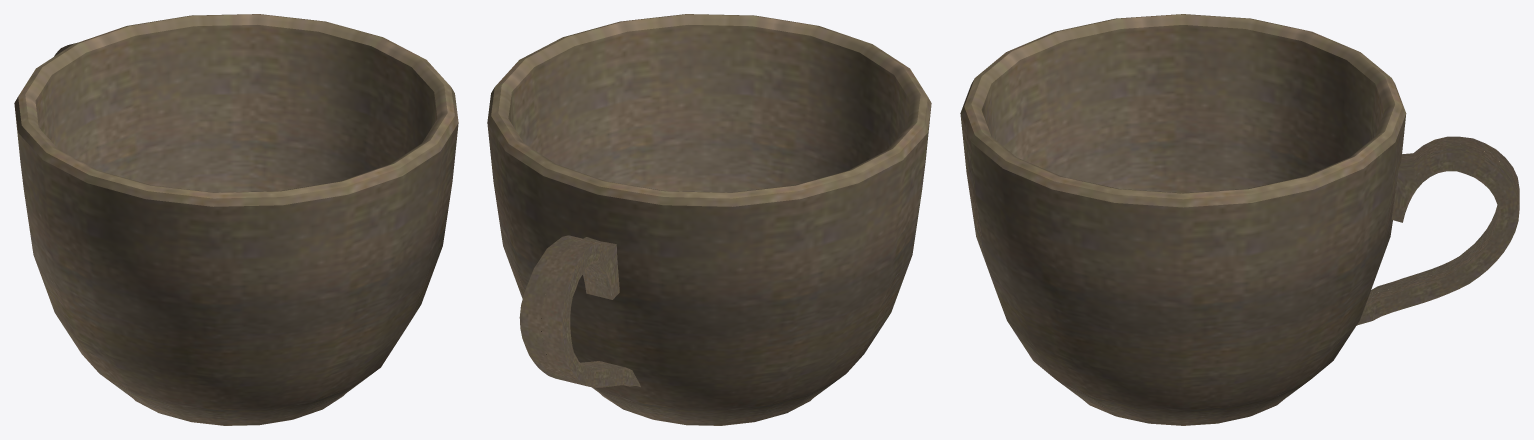
The model's file is mugcup_c01.fbx.
The picture shows the model from 3 angles, left to right: view 1: azimuth 30°, elevation 25°; view 2: azimuth 150°, elevation 25°; view 3: azimuth 270°, elevation 25°; orthographic projection.
Visible parts, largest first — view 1: mugcup_c01; view 2: mugcup_c01; view 3: mugcup_c01.
Part boxes in pixels (x1,y1,x2,y2): mugcup_c01: (14,14,458,425); mugcup_c01: (487,14,931,425); mugcup_c01: (960,14,1519,425).
Size of the model in its own units: 11.72 by 7.98 by 14.69.
Materials: 1 (1 with a texture image).
